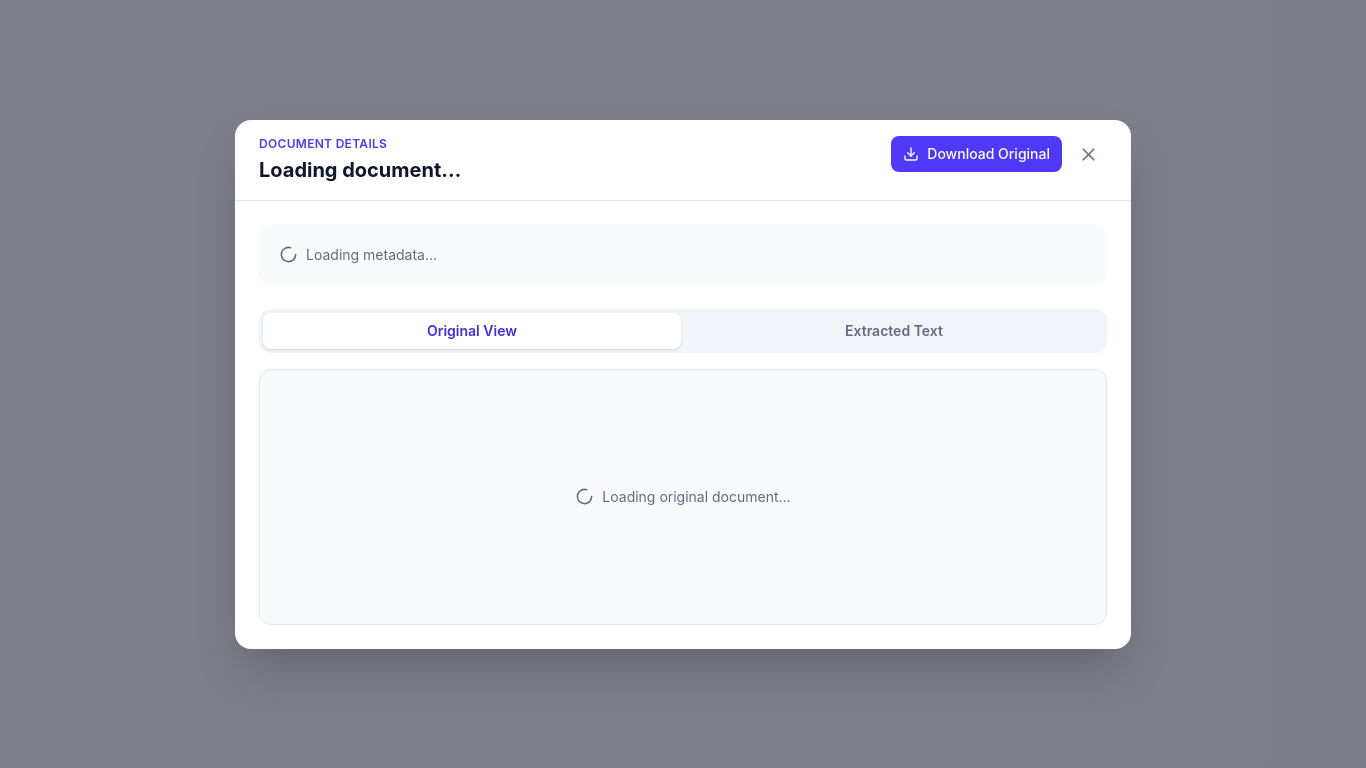
Test case: DocumentDetailsModal › shows independent loading states while requests are pending
Expected: the text "Loading metadata…" is shown, [259,224,1107,284]
Expected: the text "Loading original document…" is shown, [259,368,1107,624]
What coordinates should you click on to do the following:
click the tab "Extracted Text"
I would click on:
 (894, 330)
Its box is [685,312,1103,348].
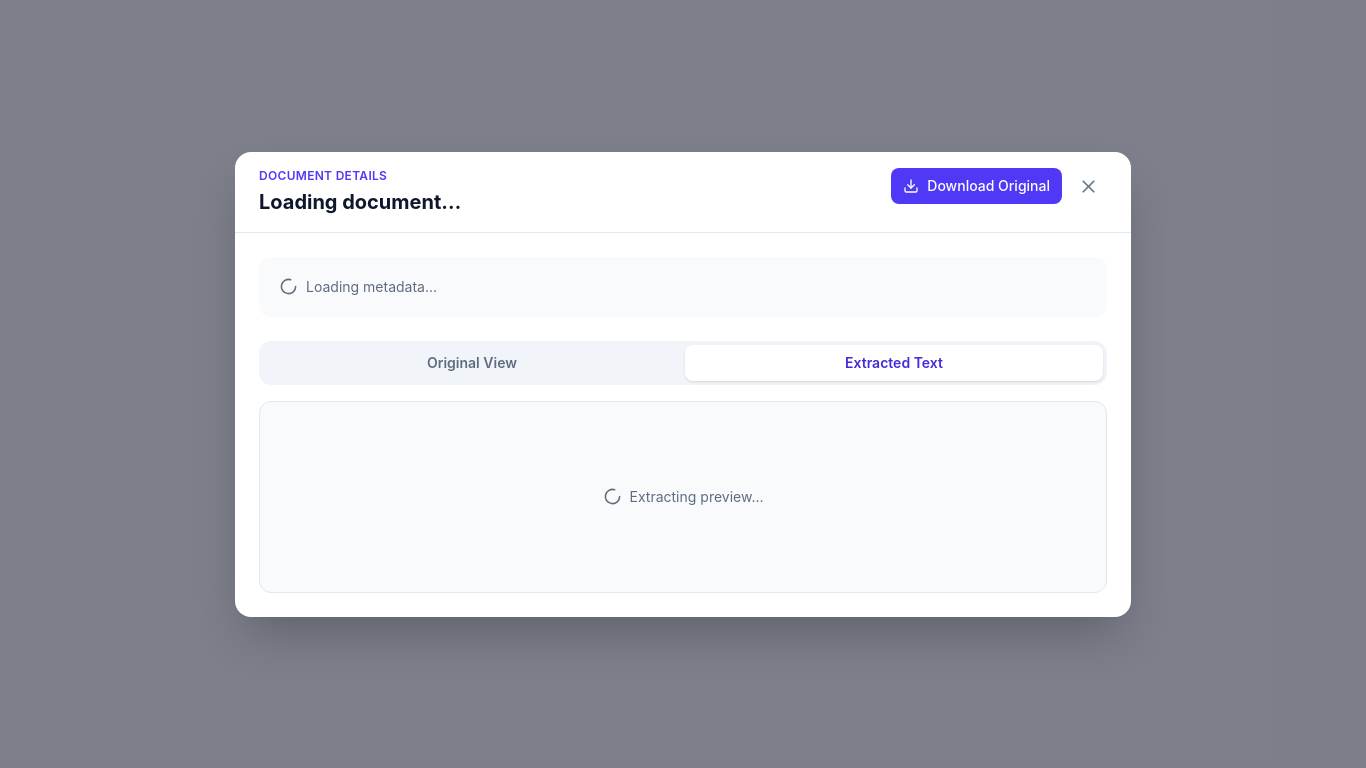
Expected: the text "Extracting preview…" is shown, [259,400,1107,592]
